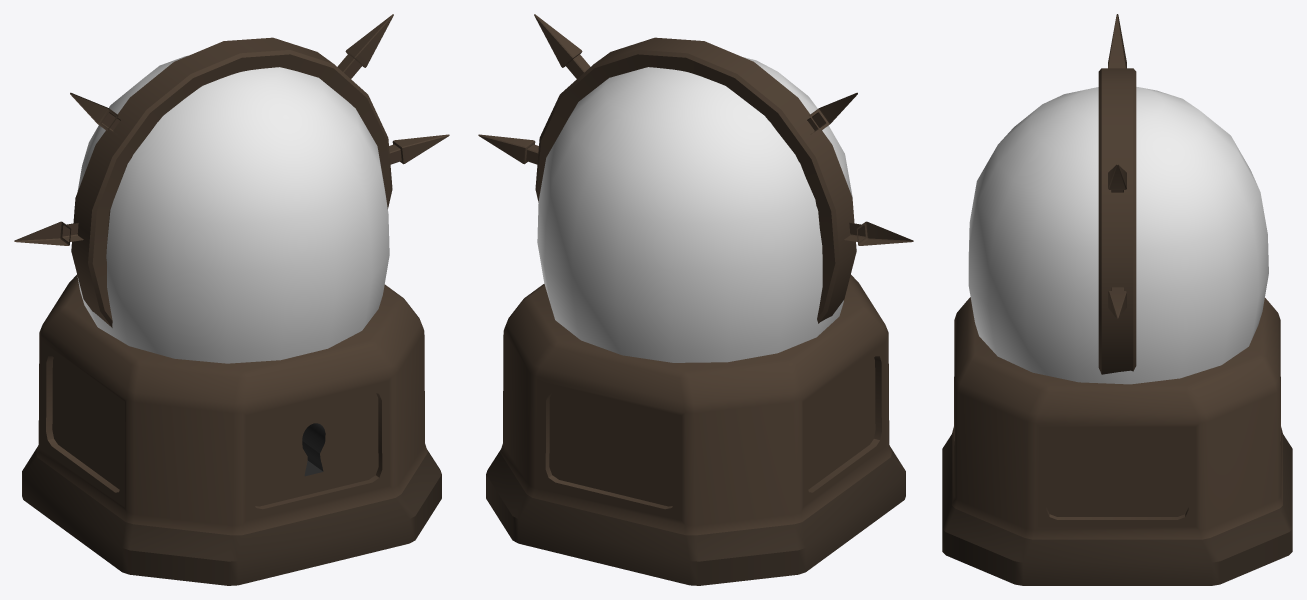
Rendered from Crystal time fragment.fbx.
3 renders of one model, left to right at view 1: azimuth 30°, elevation 25°; view 2: azimuth 150°, elevation 25°; view 3: azimuth 270°, elevation 25°, orthographic. The views are drawn at different scales.
Visible parts, largest first — view 1: Crystal_container; view 2: Crystal_container; view 3: Crystal_container.
Boxes of the visible parts, x1=… form: Crystal_container: x1=14, y1=14, x2=449, y2=585; Crystal_container: x1=478, y1=14, x2=913, y2=585; Crystal_container: x1=942, y1=14, x2=1292, y2=585.
Bounding box in the file's own units: 141 × 140 × 103.
